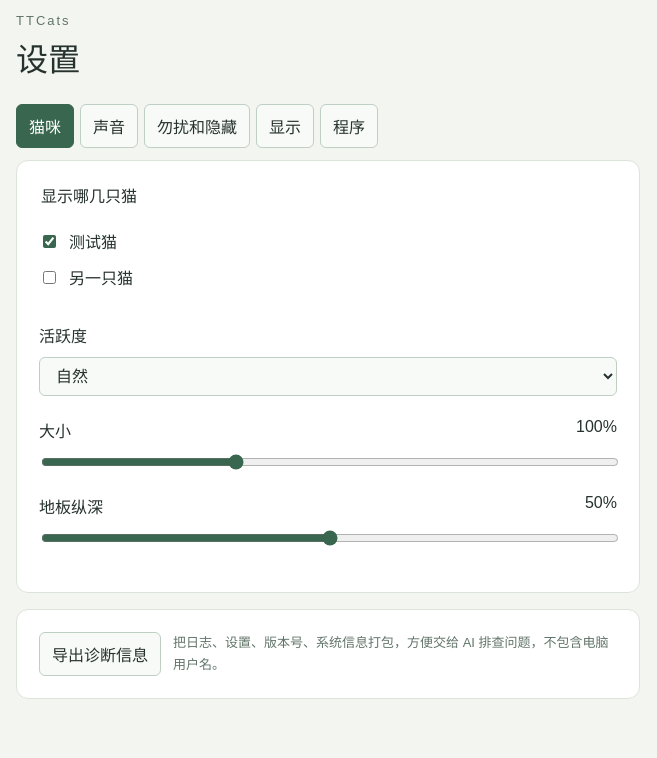
it: M2 的设置项 › 声音：开关、音量、安静时段都发出对应的设置命令
Click the tab "声音" at (109, 126), box [80,104,138,148]
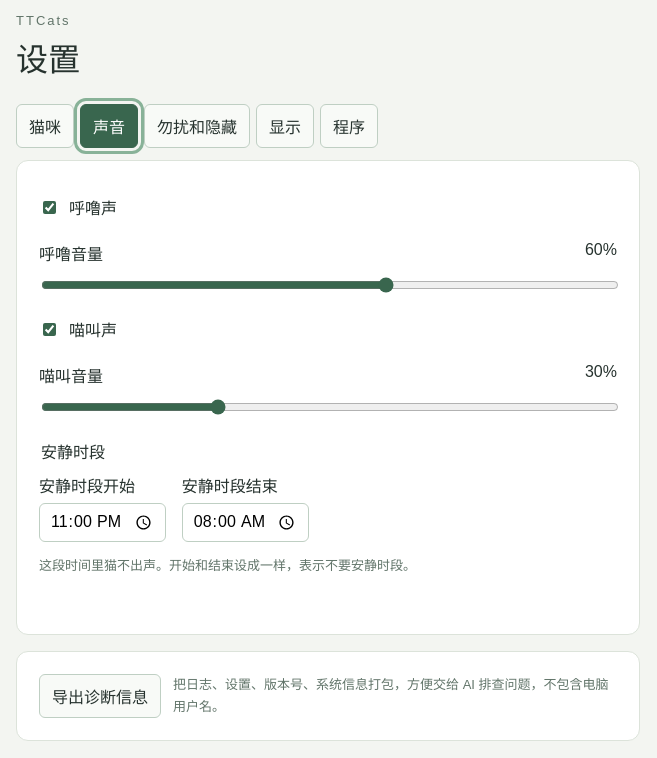
Click the checkbox labelled "呼噜声" at (50, 207), box [43,200,56,214]
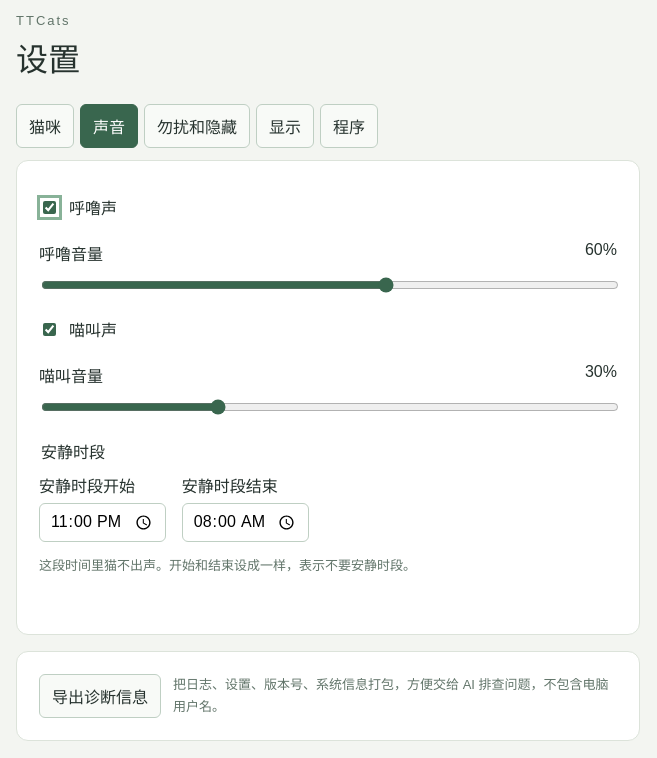
Click the checkbox labelled "喵叫声" at (50, 329), box [43,322,56,336]
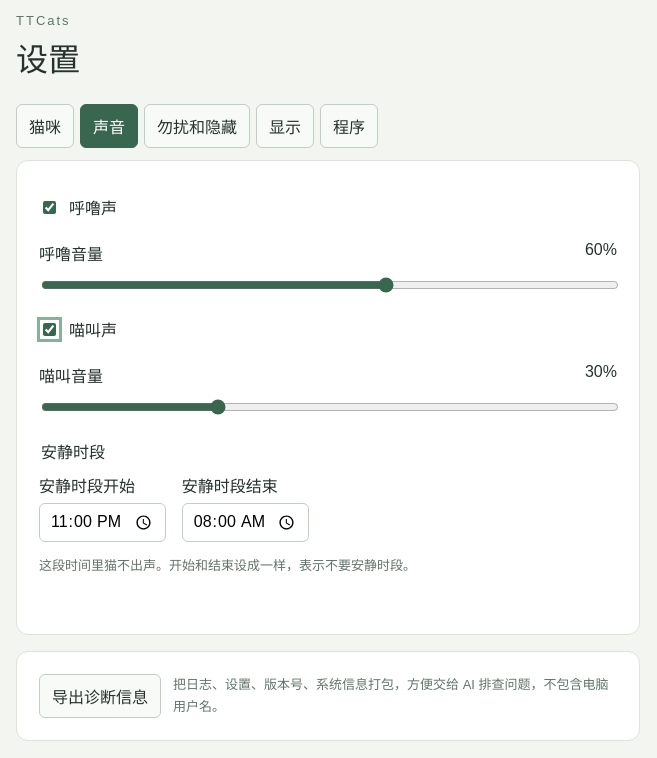
Set the slider labelled "呼噜音量" to "80" at (499, 285), box [41,277,619,293]
Set the slider labelled "喵叫音量" to "10" at (105, 407), box [41,399,619,415]
Replace the text in the time field labelled "安静时段开始" with "22:30" at (102, 522), box [39,503,166,542]
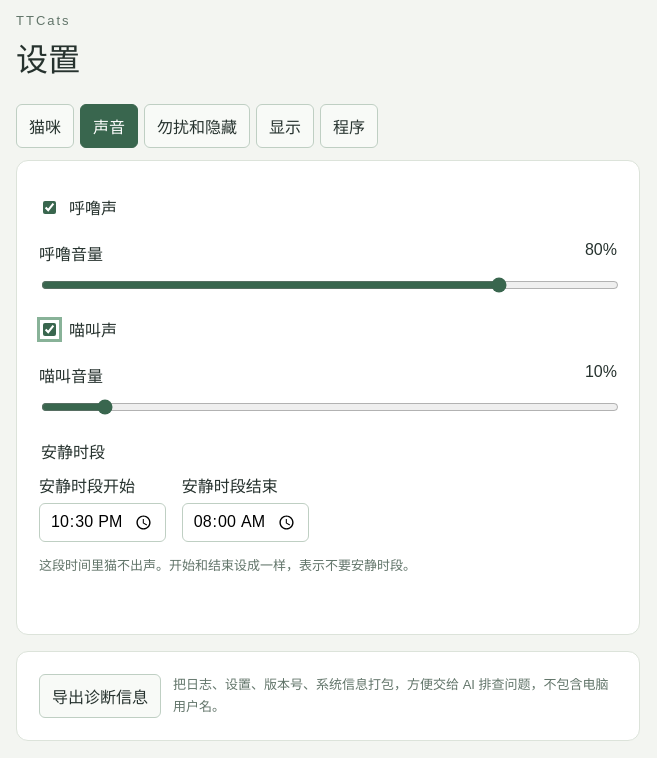
Replace the text in the time field labelled "安静时段结束" with "07:15" at (245, 522), box [182,503,309,542]
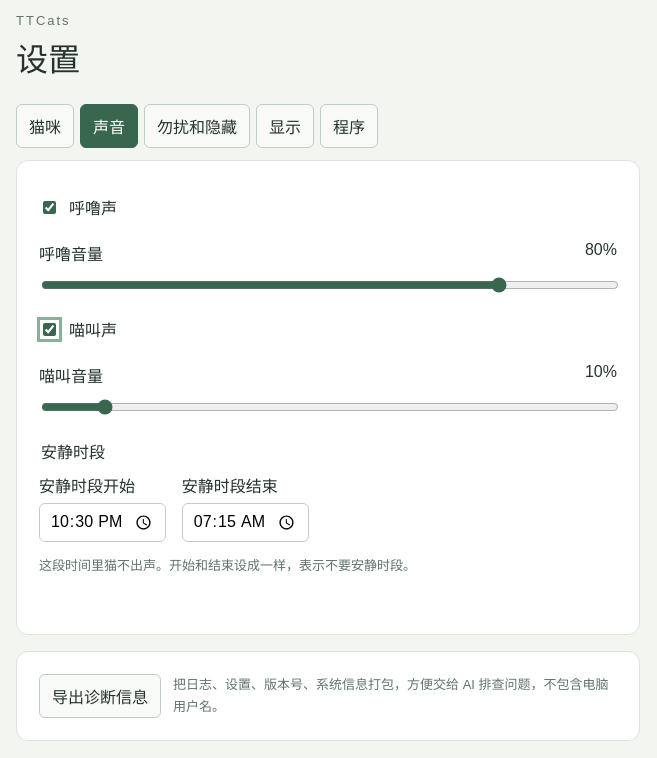
Clear the time field labelled "安静时段结束" at (245, 522), box [182,503,309,542]
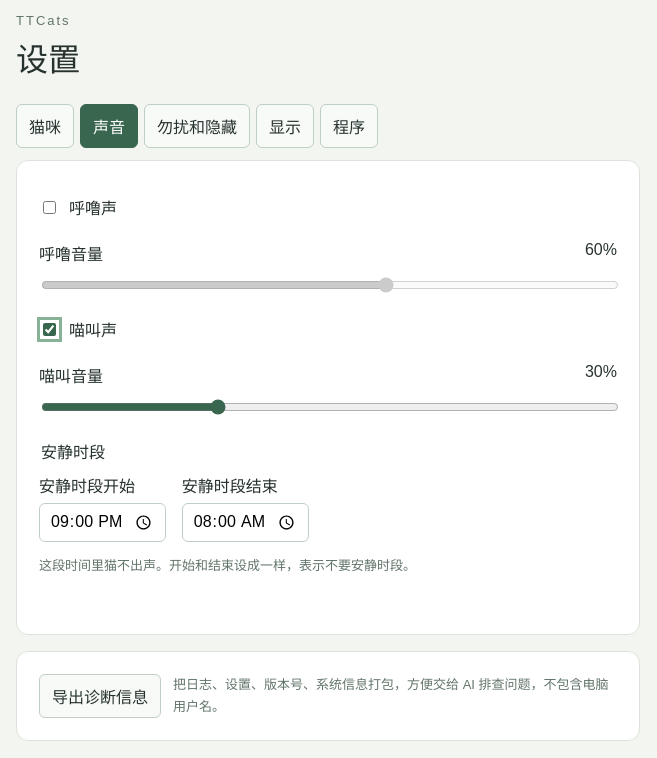
Check: the text "这段时间里猫不出声。开始和结束设成一样，表示不要安静时段。" is shown, box [39,558,416,573]
Check: the time field labelled "安静时段开始" holds "21:00", box [39,503,166,542]
Check: the slider labelled "呼噜音量" is disabled, box [41,277,619,293]
